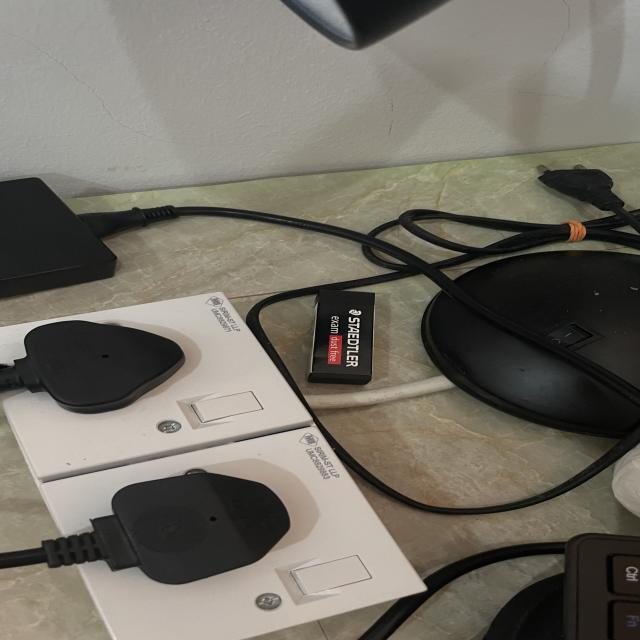eraser: (308, 289, 374, 384)
